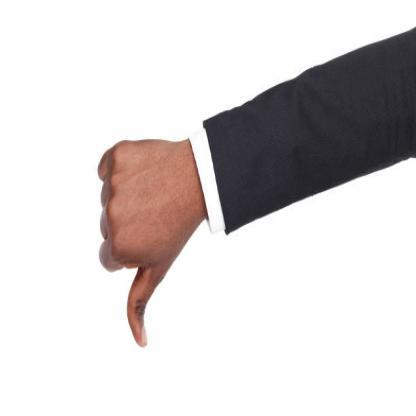thumb_down: (96, 137, 186, 349)
